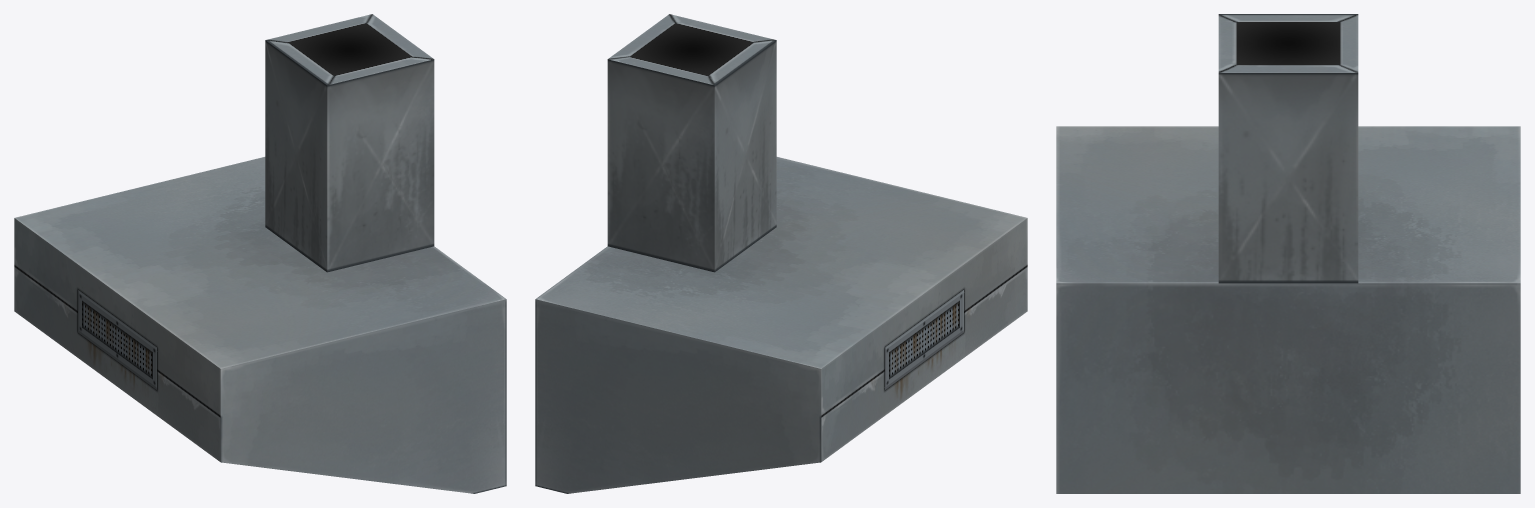
The model's file is kitchen_hood.fbx.
3 renders of one model, left to right at view 1: azimuth 30°, elevation 25°; view 2: azimuth 150°, elevation 25°; view 3: azimuth 270°, elevation 25°, orthographic. The views are drawn at different scales.
Parts seen in each view (by area): view 1: kitchen_hood; view 2: kitchen_hood; view 3: kitchen_hood.
Boxes of the visible parts, box(x1,y1,x2,y2) form: kitchen_hood: box(14, 14, 506, 493); kitchen_hood: box(535, 14, 1027, 493); kitchen_hood: box(1056, 14, 1520, 493).
Bounding box in the file's own units: 80 × 100 × 100.
